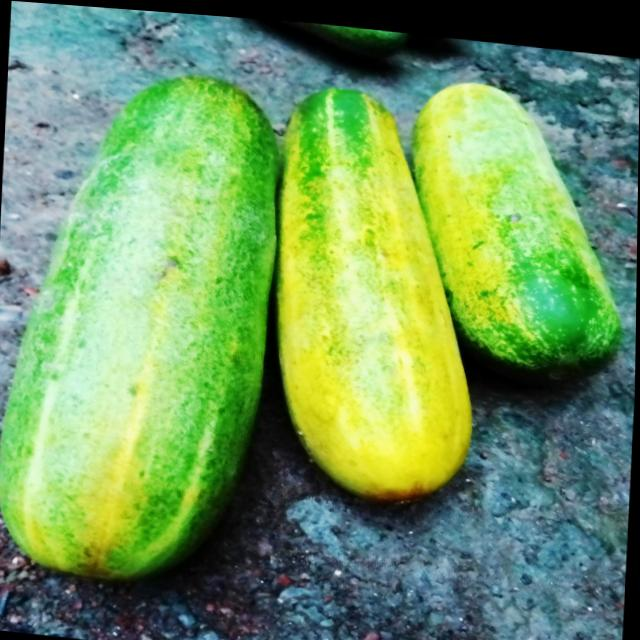Fresh-Cucumber: (0, 50, 285, 597), (263, 70, 490, 507), (399, 65, 631, 375)
